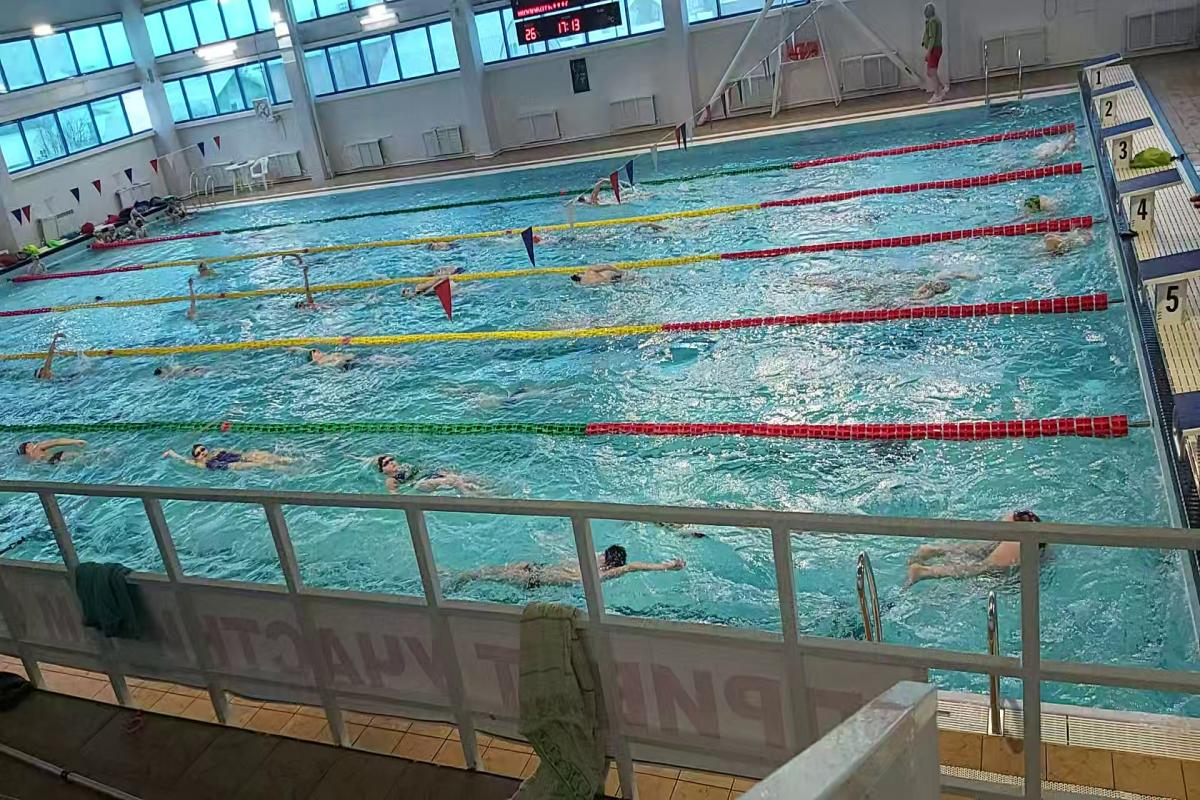swimmer: (442, 531, 693, 596), (896, 509, 1060, 596), (347, 443, 503, 496), (158, 434, 316, 480), (873, 266, 987, 303), (9, 432, 99, 475), (1030, 222, 1098, 268), (300, 348, 408, 376), (32, 328, 74, 391), (142, 356, 230, 385), (288, 266, 335, 318), (1005, 176, 1063, 216), (564, 266, 638, 296), (171, 281, 206, 332), (418, 230, 466, 258), (397, 277, 435, 302), (195, 260, 226, 281)
